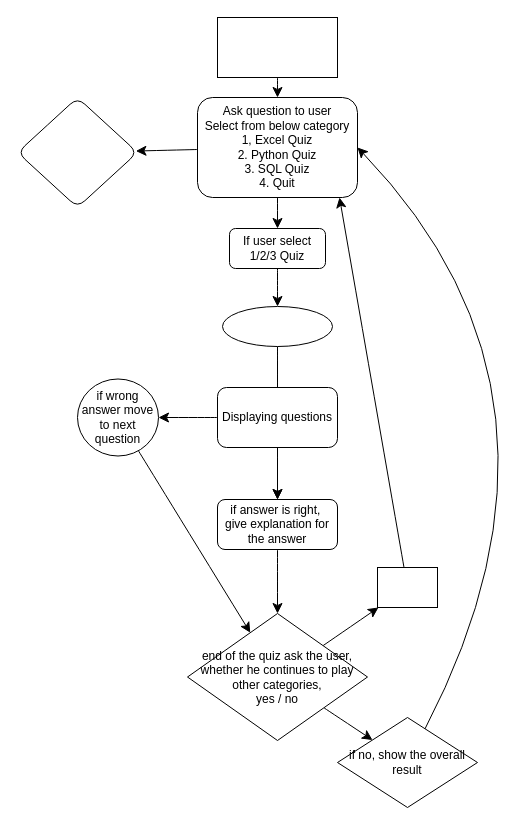
Image size: 516x825. Some labels were removed from this diagram. The box of each missing label's shape, as (x1, y1, x2, y2) in pixels:
1/2/3 Quiz started: (222, 306, 332, 346)
if user select Quit end of game: (16, 96, 138, 208)
if yes: (376, 566, 438, 608)
Welcome to quiz game: (216, 16, 338, 78)
